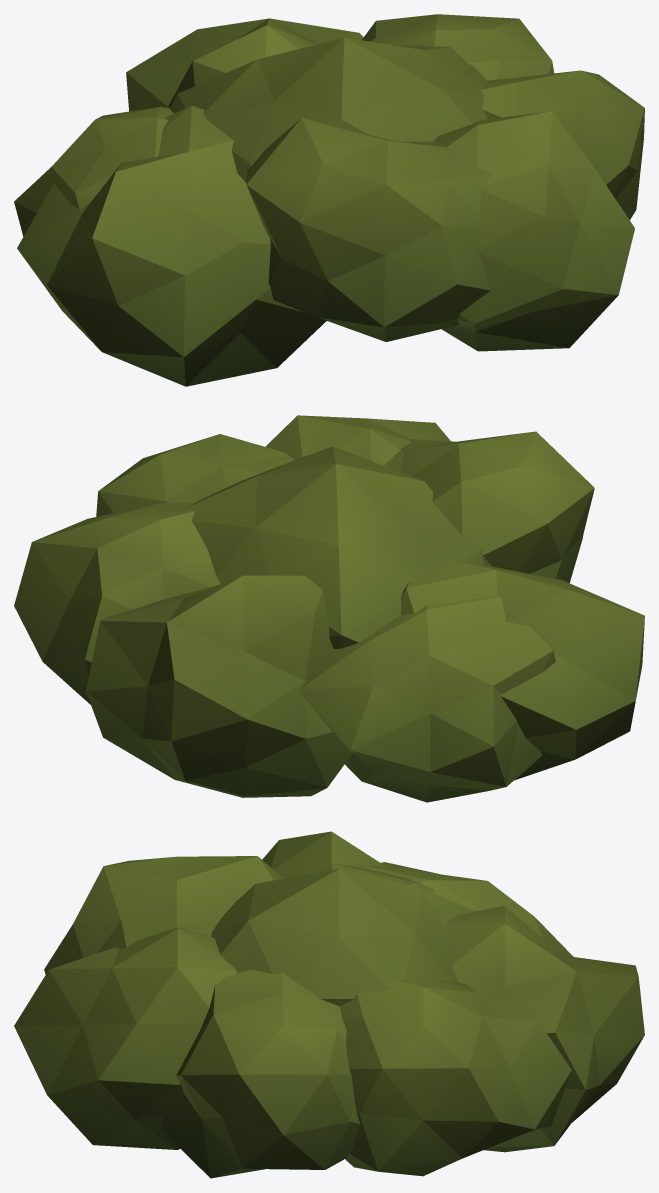
The model's file is copa-grande.glb.
The picture shows the model from 3 angles, top to bottom: view 1: azimuth 30°, elevation 25°; view 2: azimuth 150°, elevation 25°; view 3: azimuth 270°, elevation 25°; orthographic projection. The views are drawn at different scales.
Visible parts, largest first — view 1: copa-grande; view 2: copa-grande; view 3: copa-grande.
Part boxes in pixels (x1,y1,x2,y2): copa-grande: [14, 14, 644, 386]; copa-grande: [14, 415, 644, 802]; copa-grande: [14, 831, 644, 1178].
Bounding box in the file's own units: 7.84 × 3.72 × 7.8.
